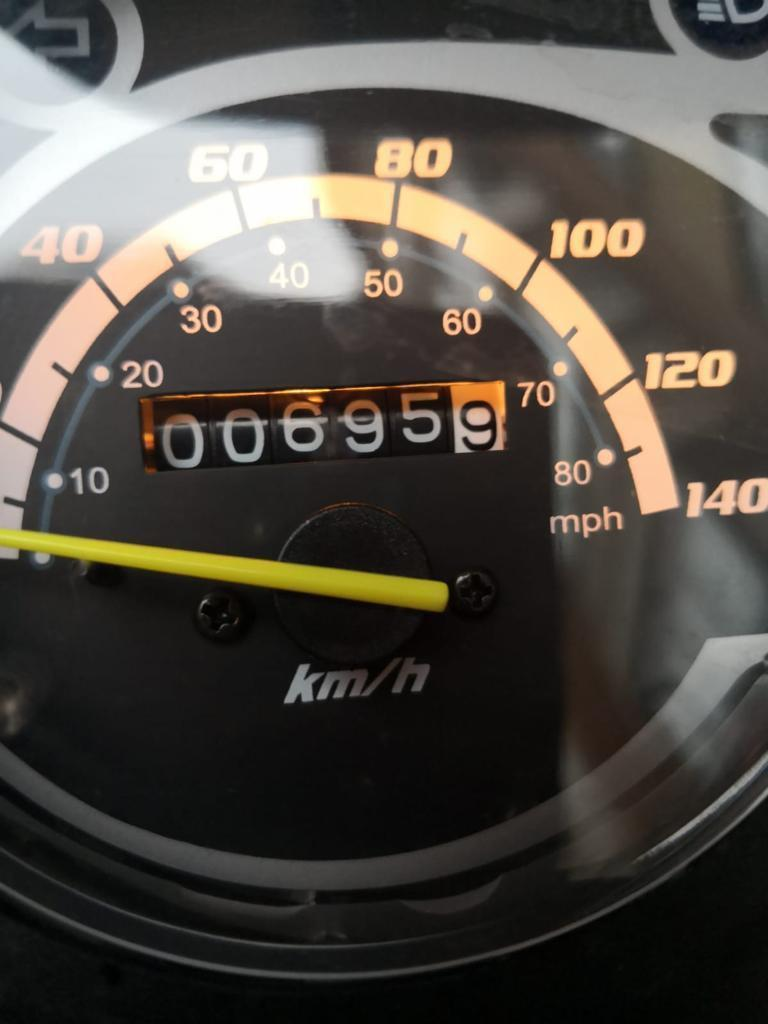0: (157, 406, 207, 470), (217, 405, 265, 468)
5: (399, 386, 444, 451)
6: (278, 394, 327, 461)
9: (340, 392, 386, 459), (459, 396, 501, 463)
odometer: (129, 379, 517, 482)
